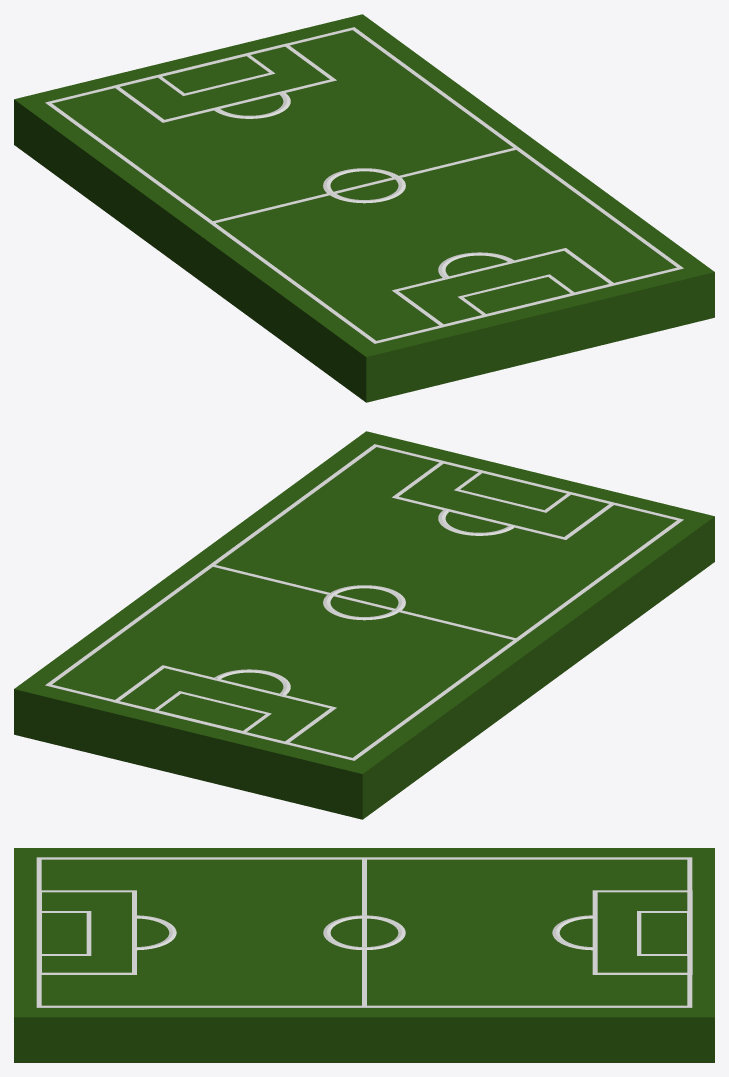
File: footballField.fbx
3 views of the same model, one above another, from view 1: azimuth 30°, elevation 25°; view 2: azimuth 150°, elevation 25°; view 3: azimuth 270°, elevation 25° (orthographic).
Parts seen in each view (by area): view 1: Cube, Cube.005, Cube.004, Cube.008, Cube.009, Cube.003, Cube.001, Torus, Cube.002, Cube.010; view 2: Cube, Cube.005, Cube.004, Cube.008, Cube.009, Cube.001, Cube.003, Torus, Cube.002, Cube.007; view 3: Cube, Cube.005, Cube.004, Cube.008, Cube.009, Cube.003, Torus, Cube.001, Cube.007, Cube.002, Cube.010, Torus.002 (+1 smaller).
Boxes of the visible parts, x1,y1,x2,y2 form: Cube: (14, 14, 714, 402); Cube.005: (45, 102, 378, 343); Cube.004: (352, 27, 683, 269); Cube.008: (392, 248, 615, 326); Cube.009: (113, 43, 336, 122); Cube.003: (47, 27, 354, 103); Cube.001: (212, 147, 517, 223); Torus: (323, 168, 405, 203); Cube.002: (377, 267, 681, 343); Cube.010: (158, 55, 275, 96); Cube: (14, 431, 714, 819); Cube.005: (352, 518, 683, 760); Cube.004: (45, 444, 378, 686); Cube.008: (392, 461, 615, 539); Cube.009: (112, 665, 336, 744); Cube.001: (211, 564, 516, 640); Cube.003: (47, 684, 354, 760); Torus: (323, 585, 405, 620); Cube.002: (376, 445, 679, 520); Cube.007: (454, 470, 571, 512); Cube: (14, 848, 714, 1062); Cube.005: (36, 857, 692, 859); Cube.004: (36, 1005, 692, 1007); Cube.008: (37, 890, 136, 974); Cube.009: (592, 890, 692, 974); Cube.003: (687, 858, 692, 1006); Torus: (323, 915, 405, 949); Cube.001: (362, 858, 366, 1006); Cube.007: (37, 911, 91, 955); Cube.002: (36, 859, 41, 1005); Cube.010: (637, 911, 689, 955); Torus.002: (552, 915, 593, 950).
Bounding box in the file's own units: 1600 × 203 × 2800.
